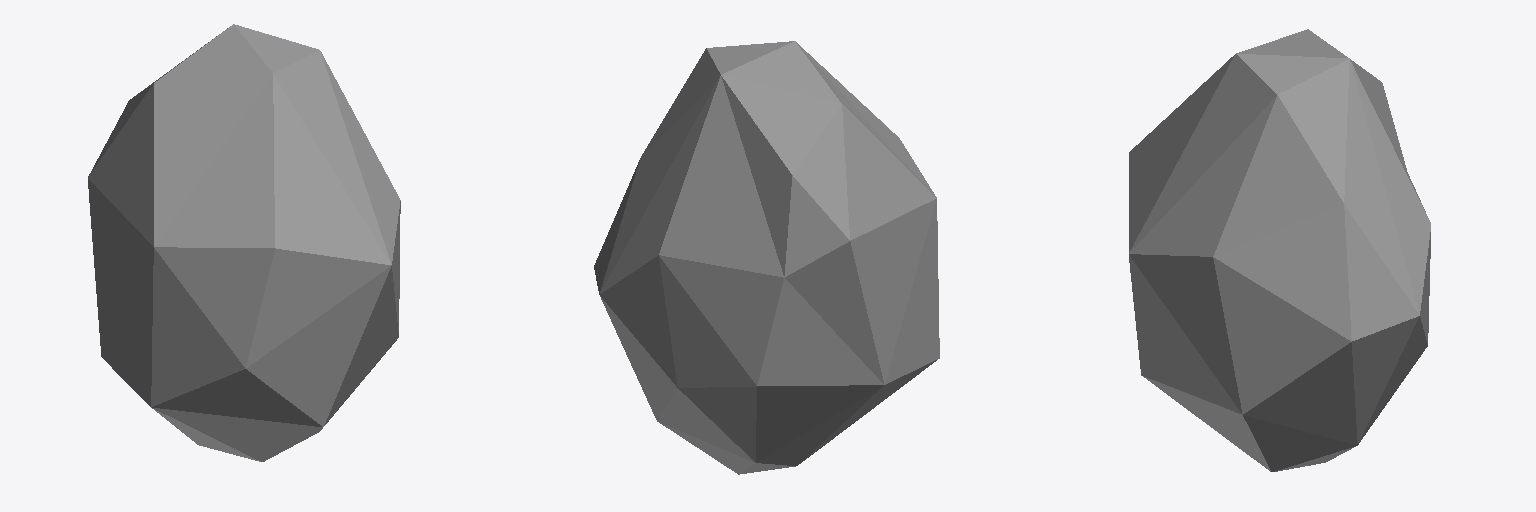
Rendered from Low_Poly_Rock_Big_001.obj.
3 views of the same model, side by side, from view 1: azimuth 30°, elevation 25°; view 2: azimuth 150°, elevation 25°; view 3: azimuth 270°, elevation 25° (orthographic).
Visible parts, largest first — view 1: Low_Poly_Rock_Big_001_Icosphere.002; view 2: Low_Poly_Rock_Big_001_Icosphere.002; view 3: Low_Poly_Rock_Big_001_Icosphere.002.
Part boxes in pixels (left/top/right/bottom): Low_Poly_Rock_Big_001_Icosphere.002: left=88, top=24, right=400, bottom=461; Low_Poly_Rock_Big_001_Icosphere.002: left=594, top=41, right=939, bottom=474; Low_Poly_Rock_Big_001_Icosphere.002: left=1129, top=29, right=1430, bottom=471.
Bounding box in the file's own units: 3.27 × 4.59 × 3.1.